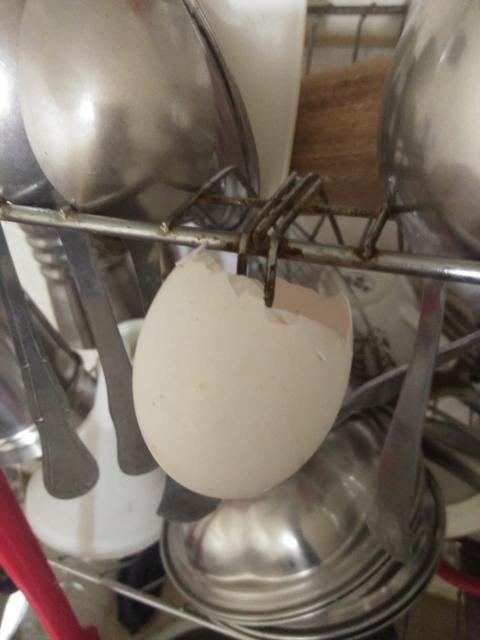Roto: (130, 242, 354, 500)
